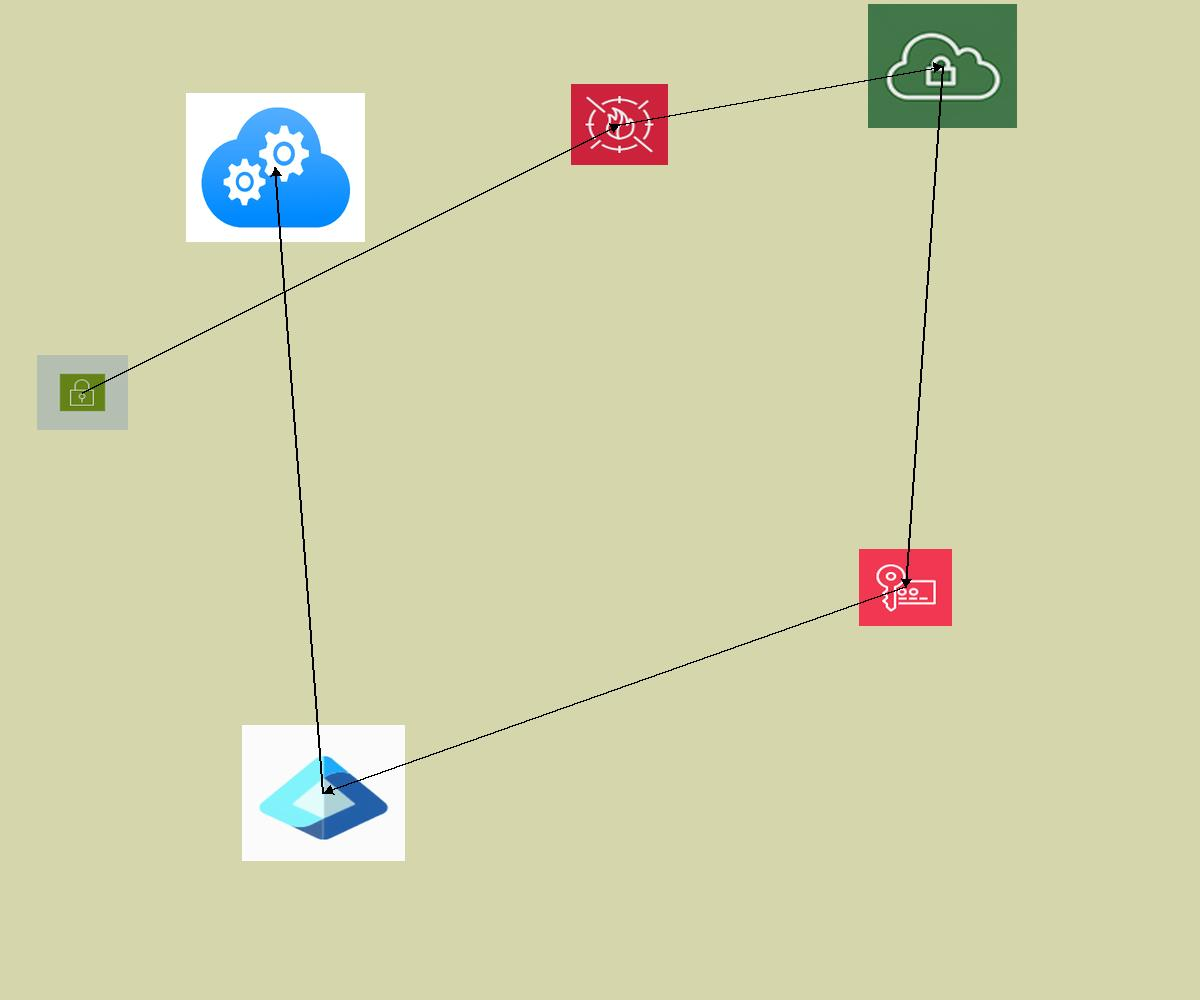AWS-Key-Management-Service: (859, 549, 952, 626)
AWS-Private_vpc: (868, 4, 1017, 128)
AWS-Public-subnet: (37, 355, 128, 430)
AWS-WAF: (571, 84, 668, 165)
Azure_cloud_services: (186, 93, 365, 242)
Azure_microsoft_entra: (242, 725, 405, 861)
